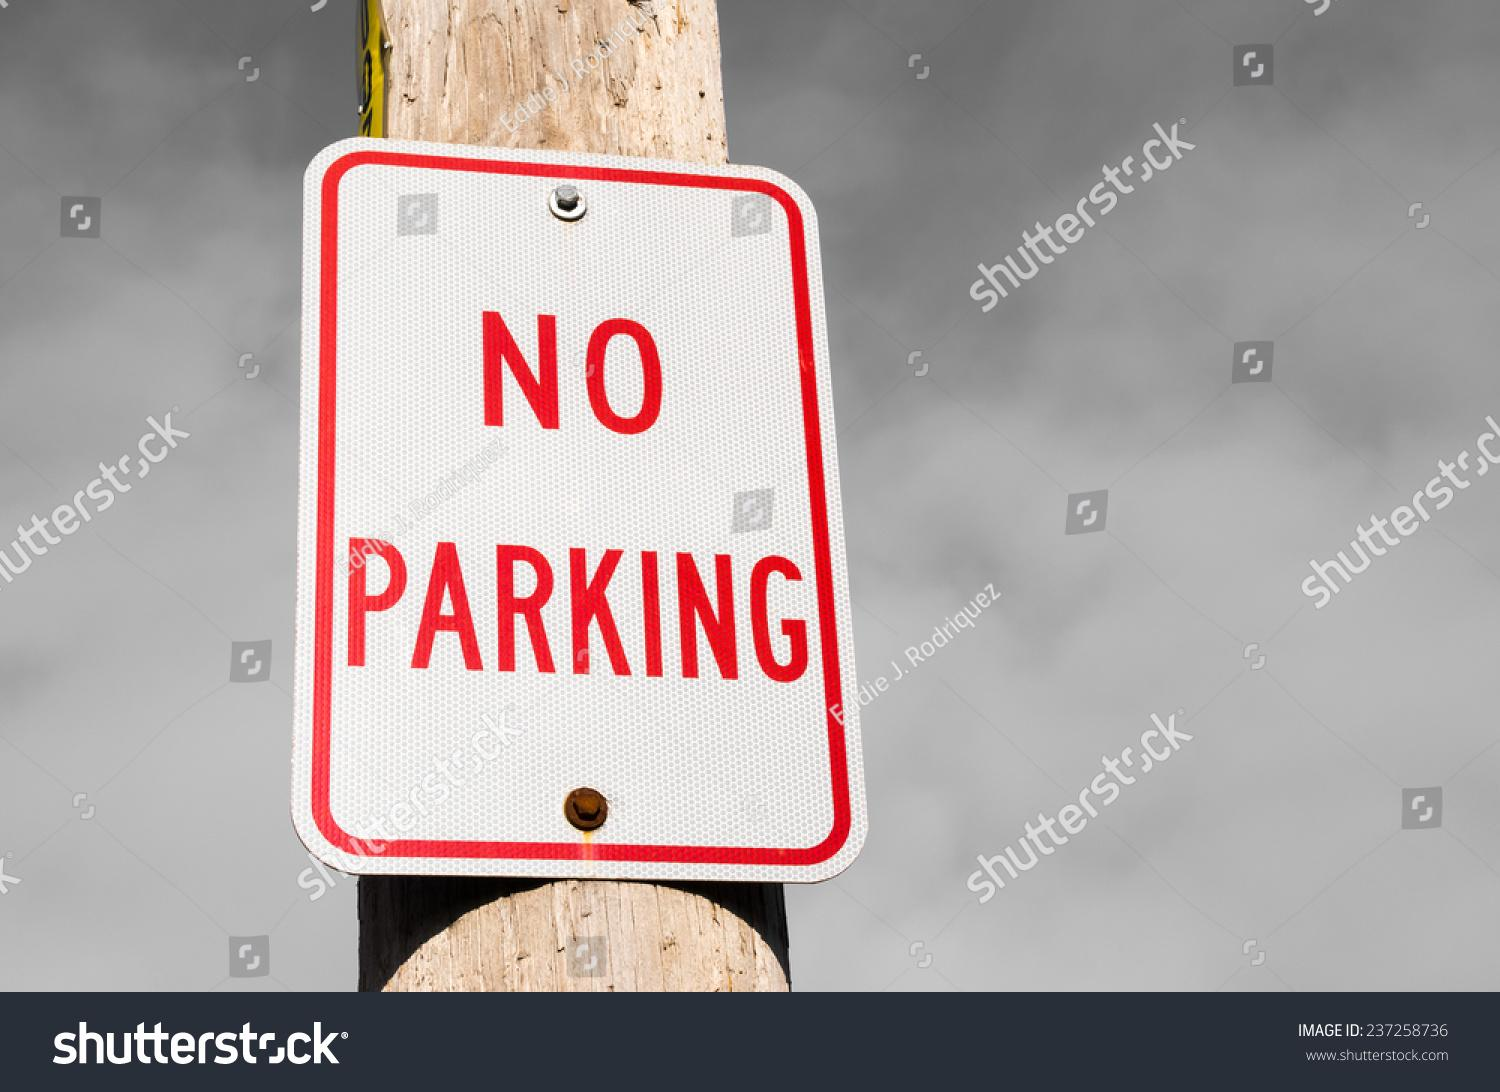No Parking: (328, 196, 843, 821)
